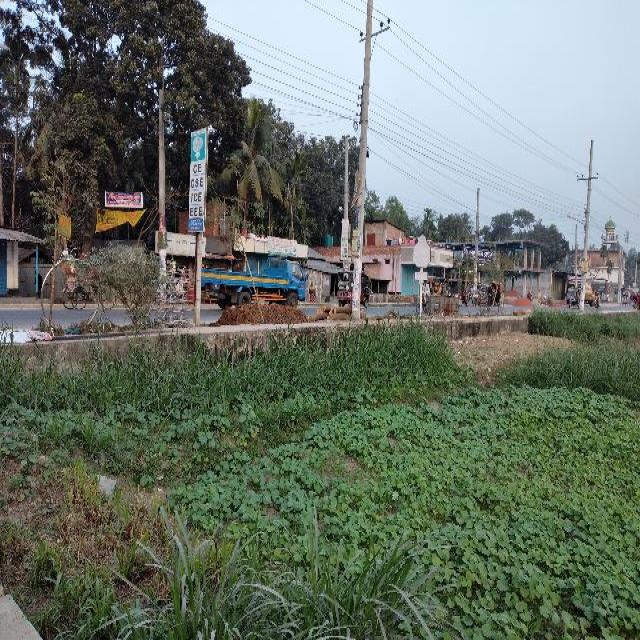bike: (474, 287, 483, 307), (593, 293, 602, 312)
vehicle: (201, 257, 307, 309), (61, 256, 117, 312), (338, 270, 374, 308), (416, 278, 443, 314), (448, 279, 472, 307), (484, 282, 505, 312), (430, 276, 451, 297), (581, 284, 596, 307), (567, 288, 582, 309), (478, 283, 488, 306), (621, 294, 629, 305)
